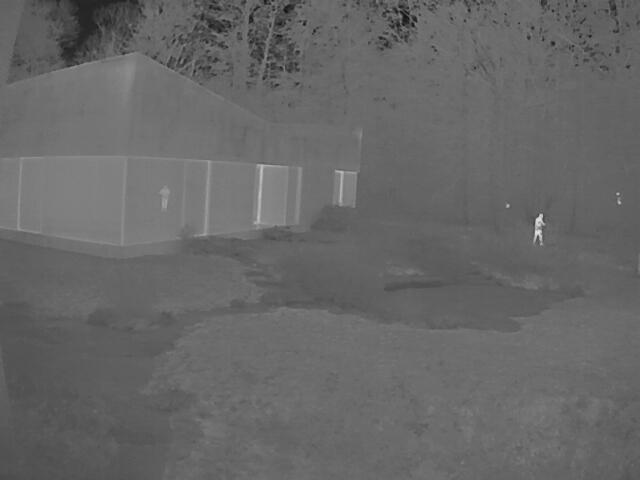person: (531, 213, 544, 248), (156, 185, 169, 211)
